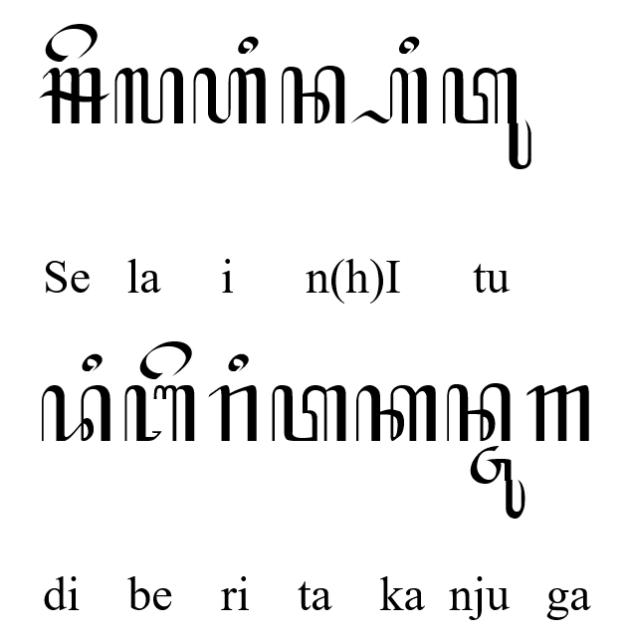S: (39, 66, 111, 126)
_h: (350, 66, 428, 126)
_ju: (470, 446, 526, 520)
b: (123, 382, 197, 442)
d: (40, 382, 113, 442)
e: (138, 338, 192, 380), (45, 22, 100, 62)
g: (525, 384, 591, 442)
h: (192, 66, 266, 126)
i: (80, 352, 104, 373), (236, 34, 260, 54), (228, 352, 251, 372), (398, 36, 420, 54)
k: (355, 383, 437, 442)
l: (113, 65, 184, 125)
n: (280, 64, 346, 124), (446, 382, 512, 442)
r: (208, 383, 258, 442)
t: (270, 384, 346, 442)
tu: (442, 66, 532, 170)
